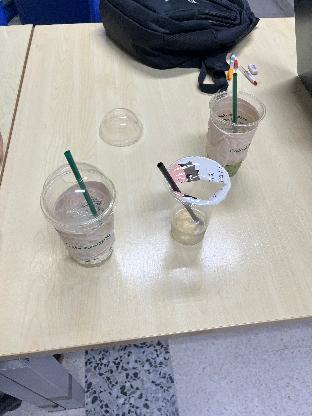Plastic Cup: (43, 166, 117, 270), (161, 150, 231, 252), (204, 87, 266, 178)
